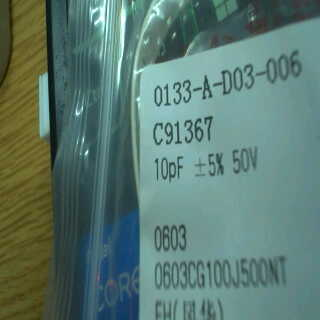10pF: (148, 151, 192, 190)
